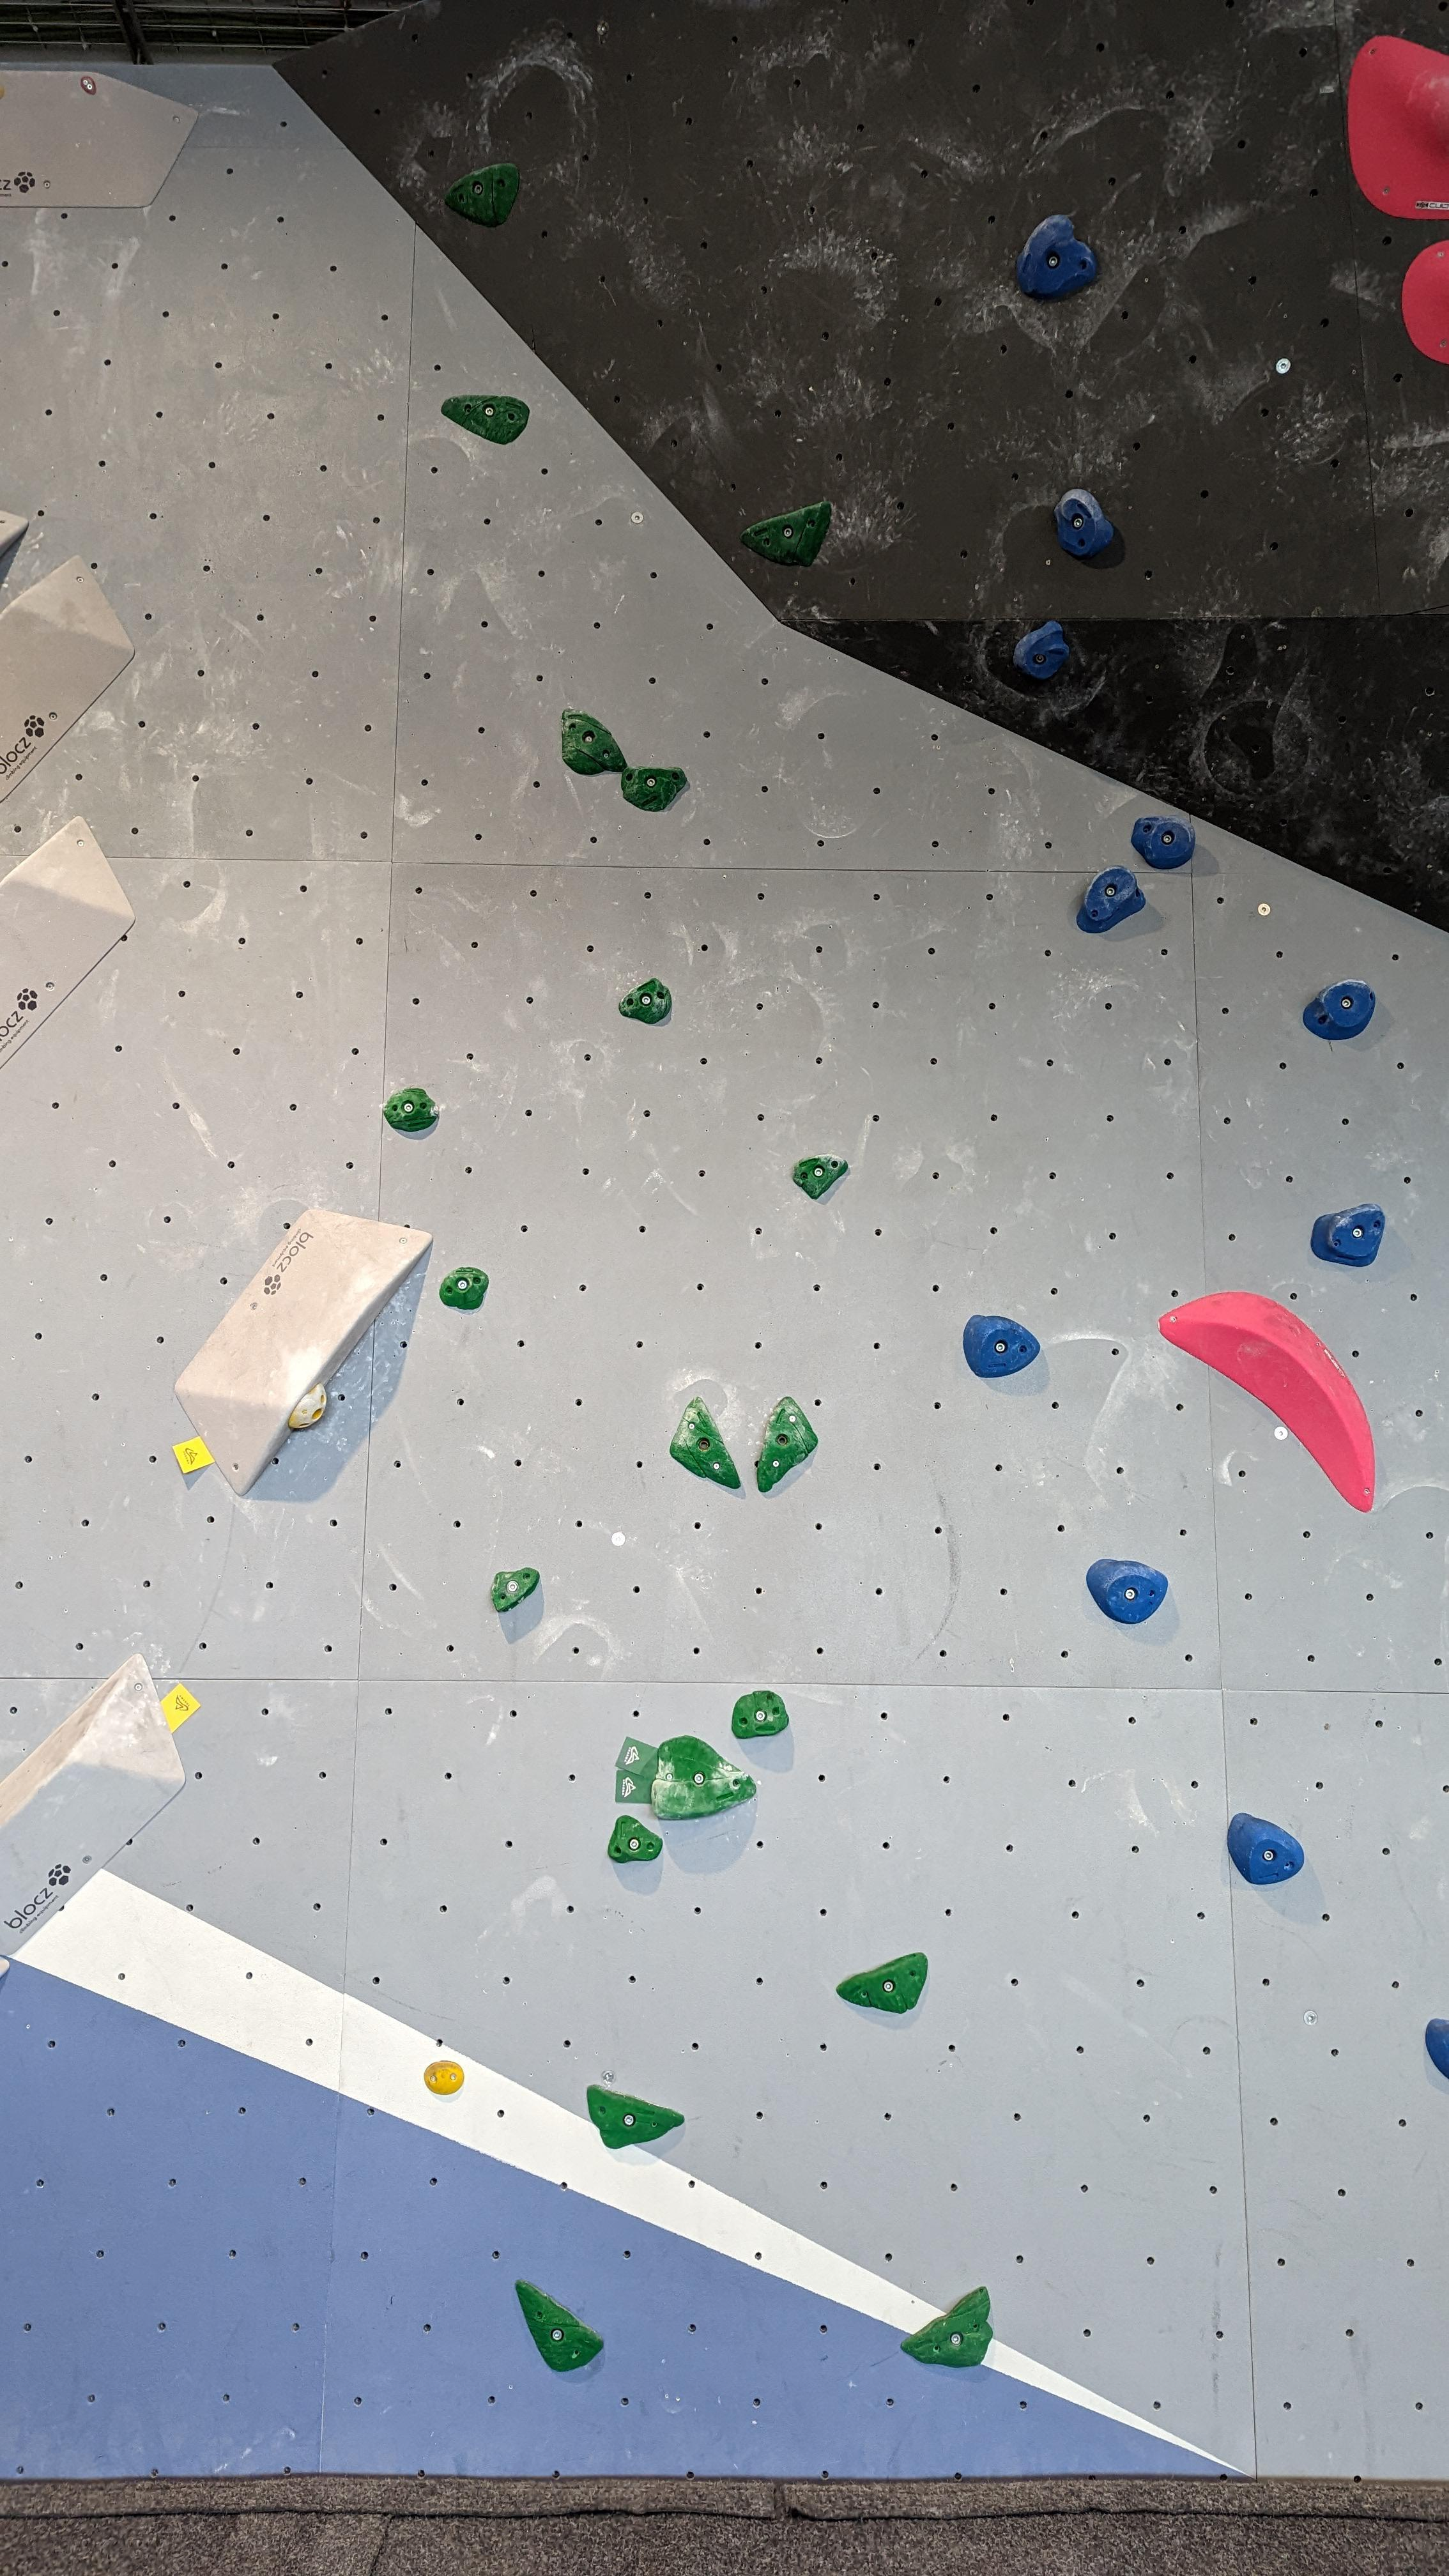hold: (173, 1208, 432, 1497), (0, 1652, 186, 1957), (1157, 1292, 1375, 1513), (0, 816, 134, 1069), (0, 556, 134, 803), (0, 71, 200, 207), (1346, 35, 1449, 219), (649, 1736, 757, 1821), (515, 2279, 605, 2371), (901, 2286, 993, 2367), (1016, 214, 1097, 299), (669, 1396, 741, 1490), (586, 2084, 685, 2150), (740, 501, 832, 566), (1401, 239, 1449, 364), (757, 1396, 817, 1493), (837, 1953, 927, 2013), (1228, 1813, 1304, 1884), (1086, 1559, 1168, 1624), (962, 1315, 1040, 1378), (1309, 1203, 1385, 1267), (444, 163, 518, 226), (1076, 865, 1145, 932), (1302, 978, 1375, 1040), (441, 395, 529, 444), (561, 709, 626, 775), (1054, 488, 1115, 557), (1131, 814, 1196, 869), (1014, 619, 1069, 679), (621, 766, 686, 812), (731, 1691, 789, 1739), (607, 1815, 663, 1863), (793, 1154, 847, 1200), (617, 978, 672, 1024), (384, 1088, 439, 1132), (490, 1568, 540, 1612), (439, 1267, 488, 1309), (288, 1384, 327, 1430), (1426, 2019, 1449, 2079), (0, 510, 28, 557), (425, 2061, 464, 2095), (80, 76, 96, 96), (0, 1957, 11, 1978)
